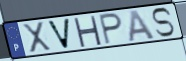A: (128, 9, 157, 43)
H: (72, 16, 103, 48)
P: (98, 12, 124, 46)
S: (151, 7, 176, 39)
V: (46, 18, 72, 51)
X: (20, 21, 53, 55)
